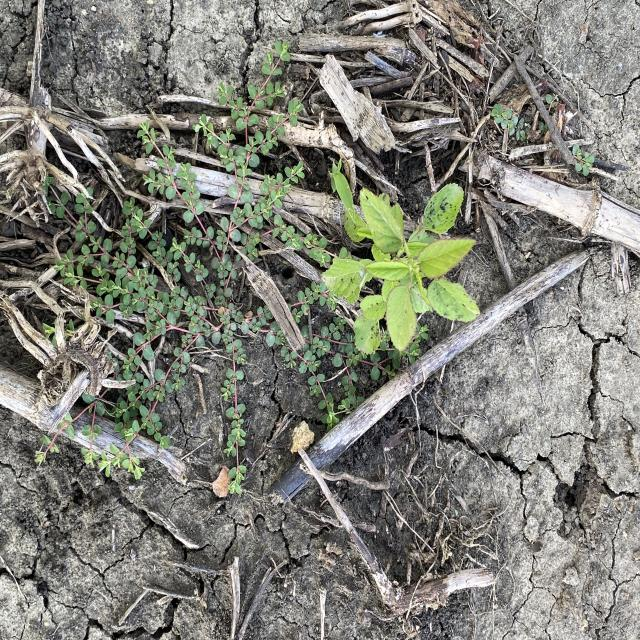PricklySida: (319, 181, 484, 357)
SpottedSpurge: (34, 37, 383, 496), (492, 88, 596, 178)
